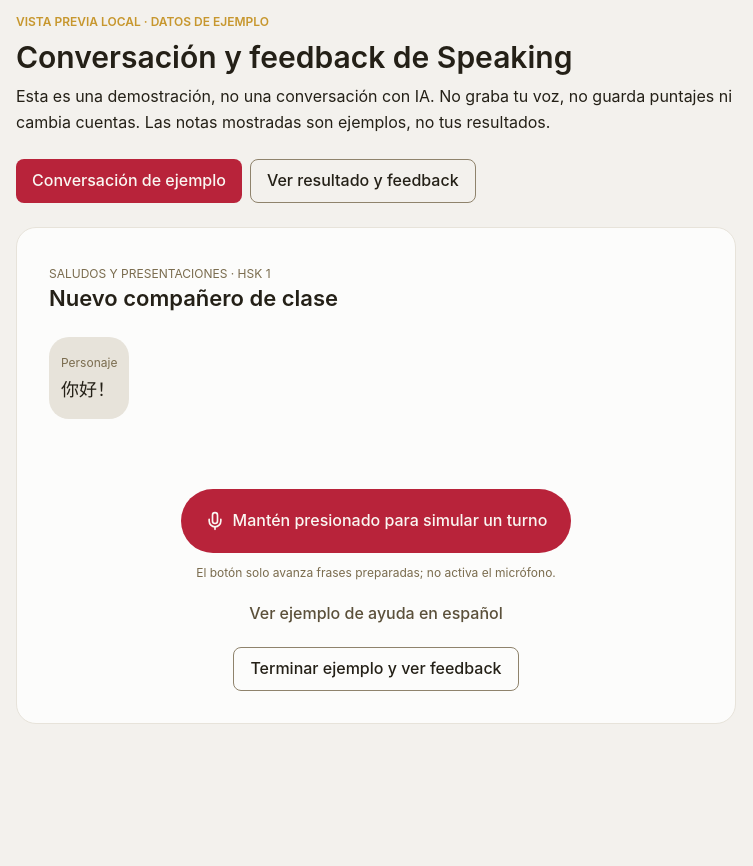
Test: non-billing local Speaking preview › shows the real report renderer, with example scores and no reward claim
Click the button "Ver resultado y feedback": coordinates (363, 181) [250,160,476,203]
(page scrolled)
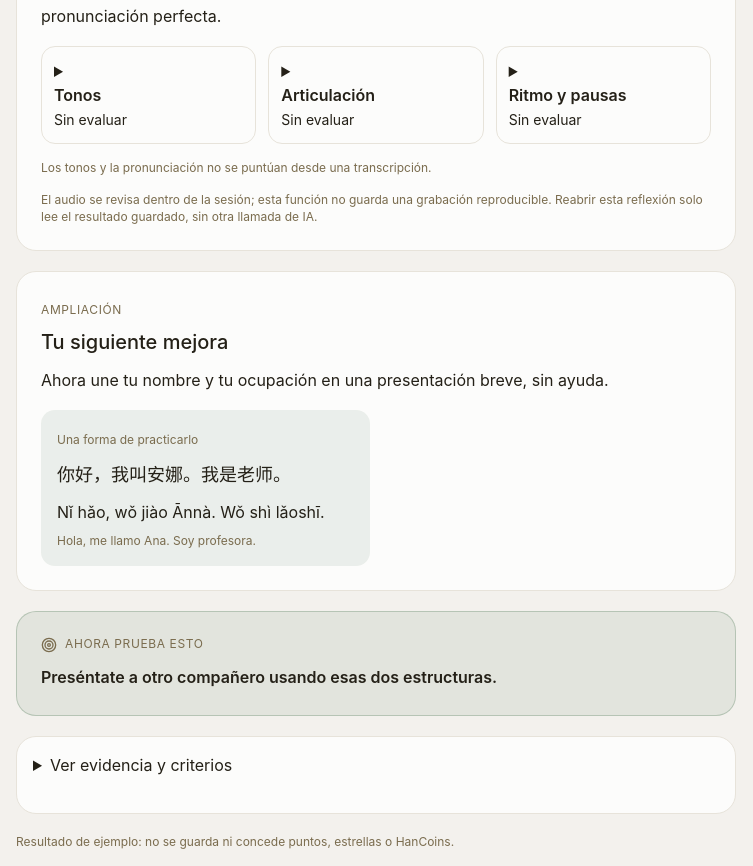
Check: the text "Resultado de ejemplo: no se guarda" is shown, box [16,834,454,849]
